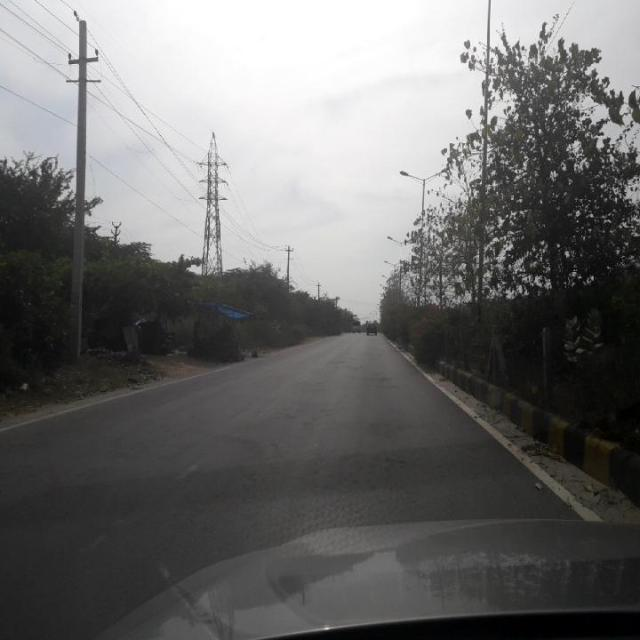D20: (221, 432, 288, 524), (324, 444, 401, 502)
D44: (84, 451, 208, 549)
